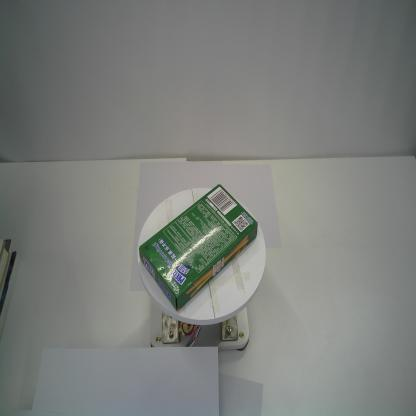Dessert: (138, 182, 260, 315)
